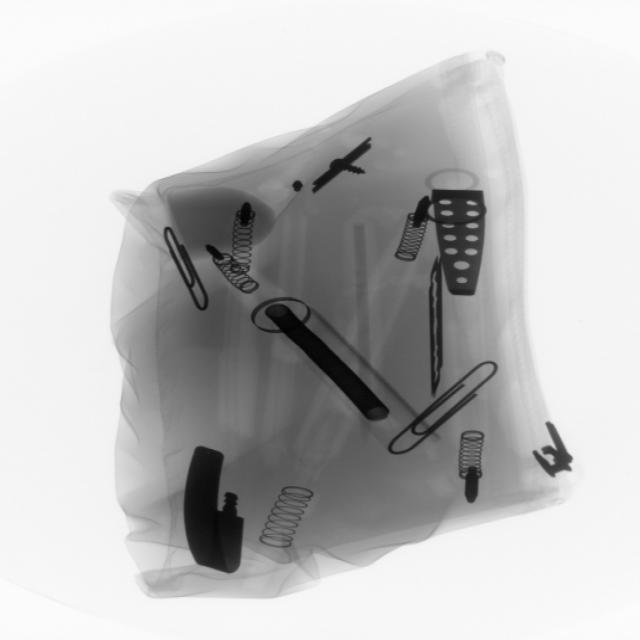SHURIKEN: (417, 252, 456, 397)
